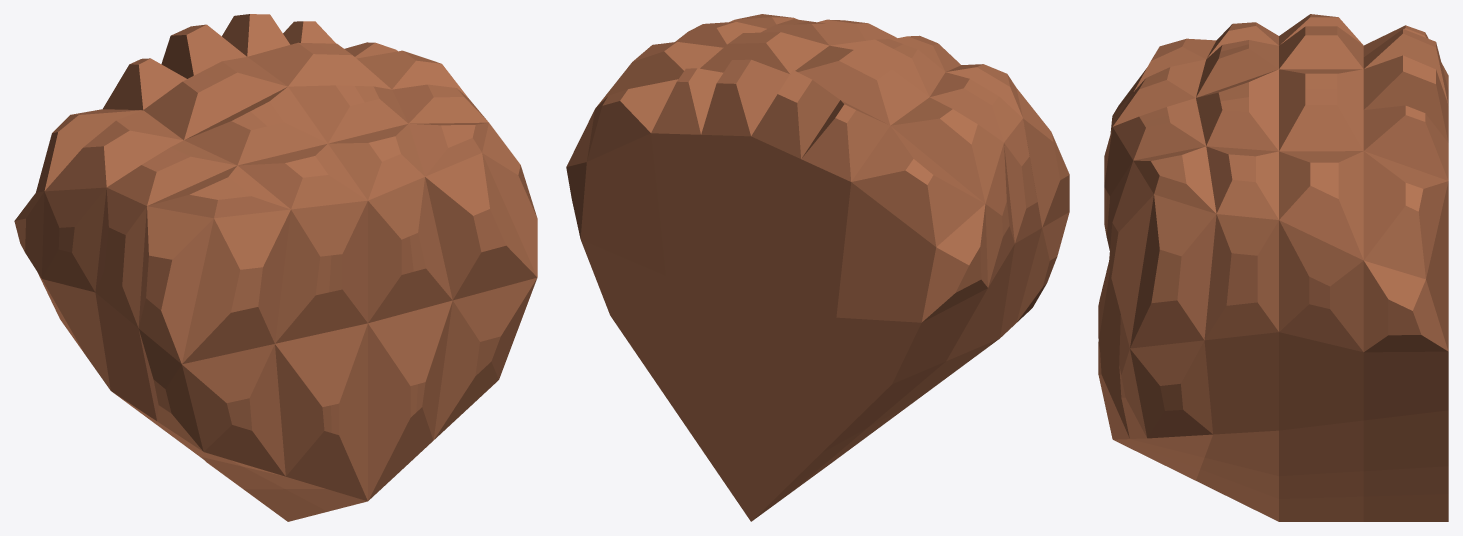
File: boy.fbx
The picture shows the model from 3 angles, left to right: view 1: azimuth 30°, elevation 25°; view 2: azimuth 150°, elevation 25°; view 3: azimuth 270°, elevation 25°; orthographic projection. The views are drawn at different scales.
Parts seen in each view (by area): view 1: boy; view 2: boy; view 3: boy.
Part boxes in pixels (x1,y1,x2,y2): boy: (14, 14, 537, 521); boy: (566, 14, 1069, 521); boy: (1098, 14, 1448, 521).
Size of the model in its own units: 0.3966 by 0.4136 by 0.2748.
